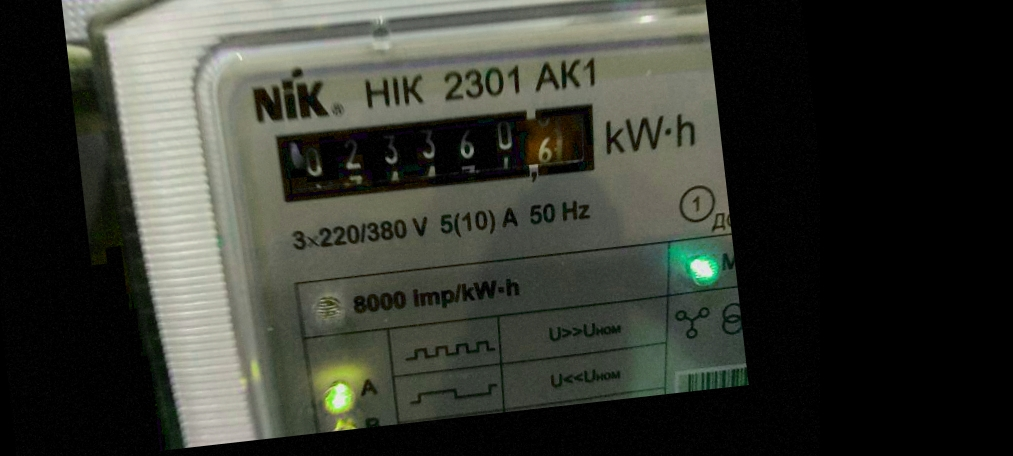0: (299, 141, 325, 178), (491, 115, 516, 152)
2: (339, 134, 364, 171)
3: (378, 130, 401, 167), (416, 125, 438, 161)
6: (453, 124, 477, 160), (532, 130, 554, 165)
screen: (260, 85, 620, 223)
